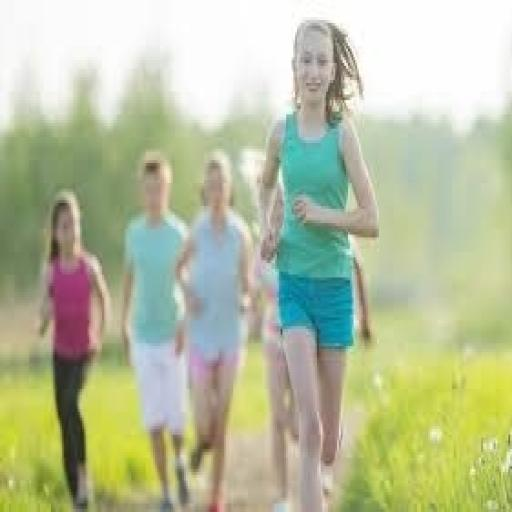running: (257, 14, 381, 509), (173, 149, 257, 509), (119, 146, 193, 509), (35, 186, 113, 509)
